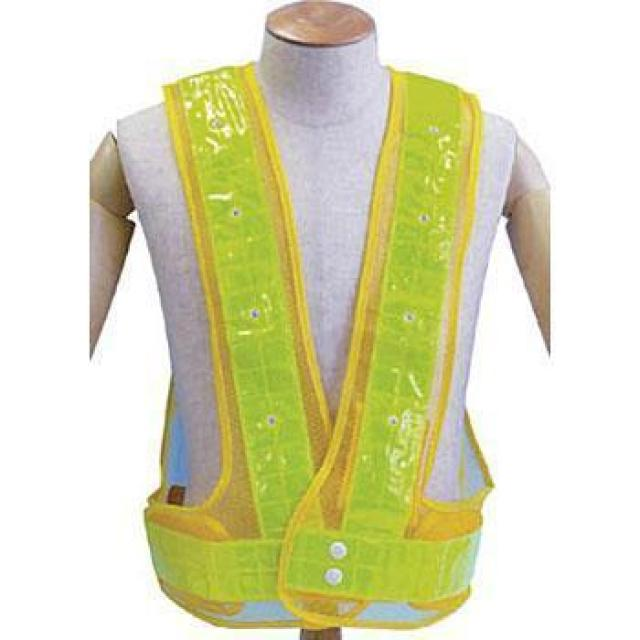Vest: (130, 59, 492, 626)
